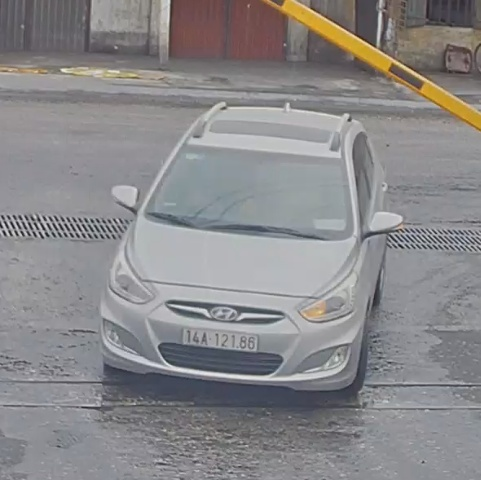vehicle plate: (180, 321, 258, 355)
